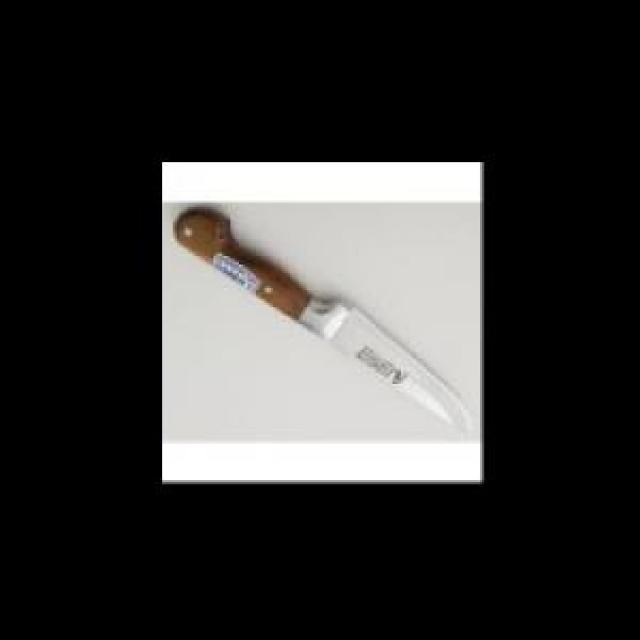knife: (162, 201, 481, 436)
